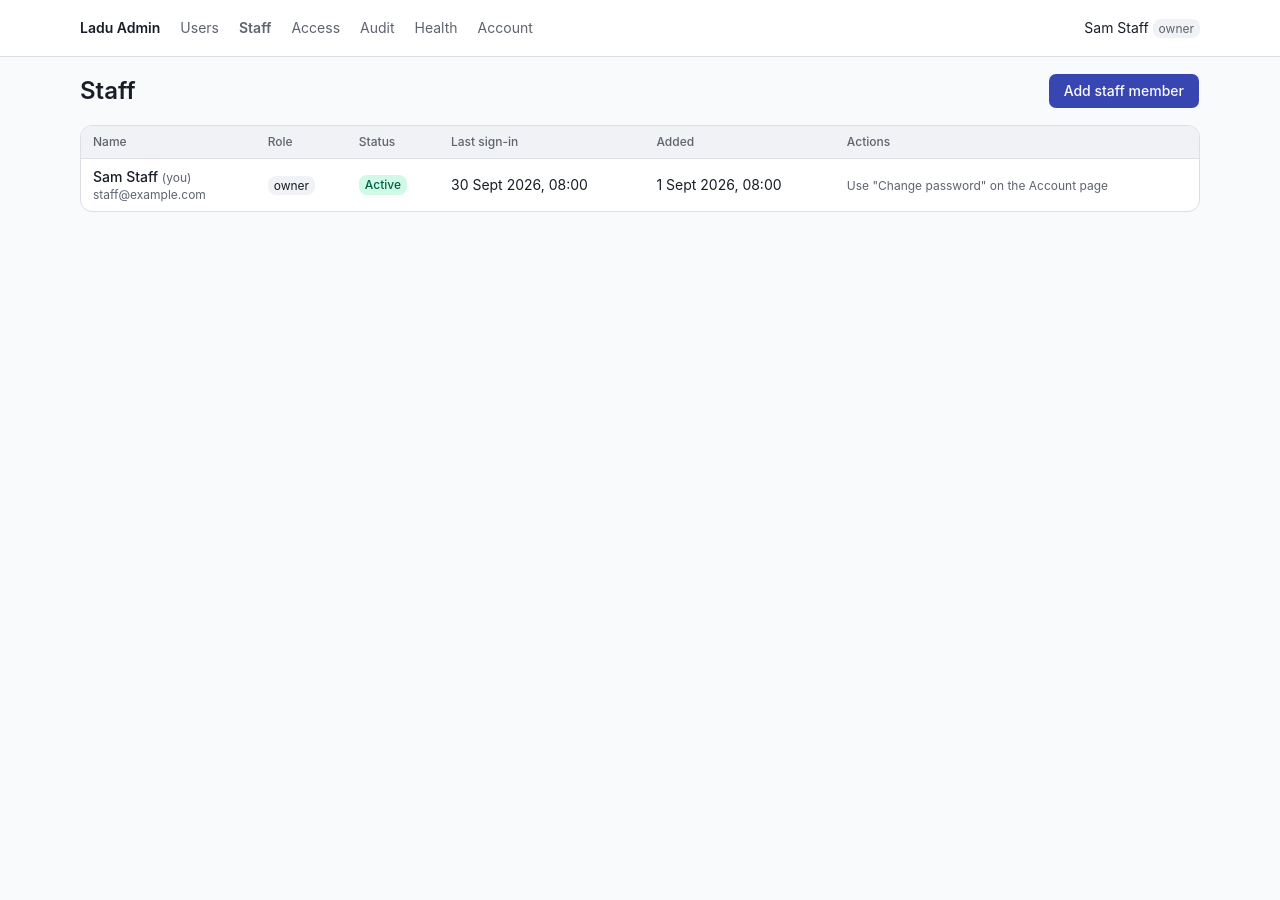
Test case: add a staff member › can generate a password that the rules accept
This screenshot has width=1280, height=900.
What coordinates should you click on to do the following:
click the button "Add staff member"
I would click on:
 (1124, 91)
Its box is [1048,73,1200,109].
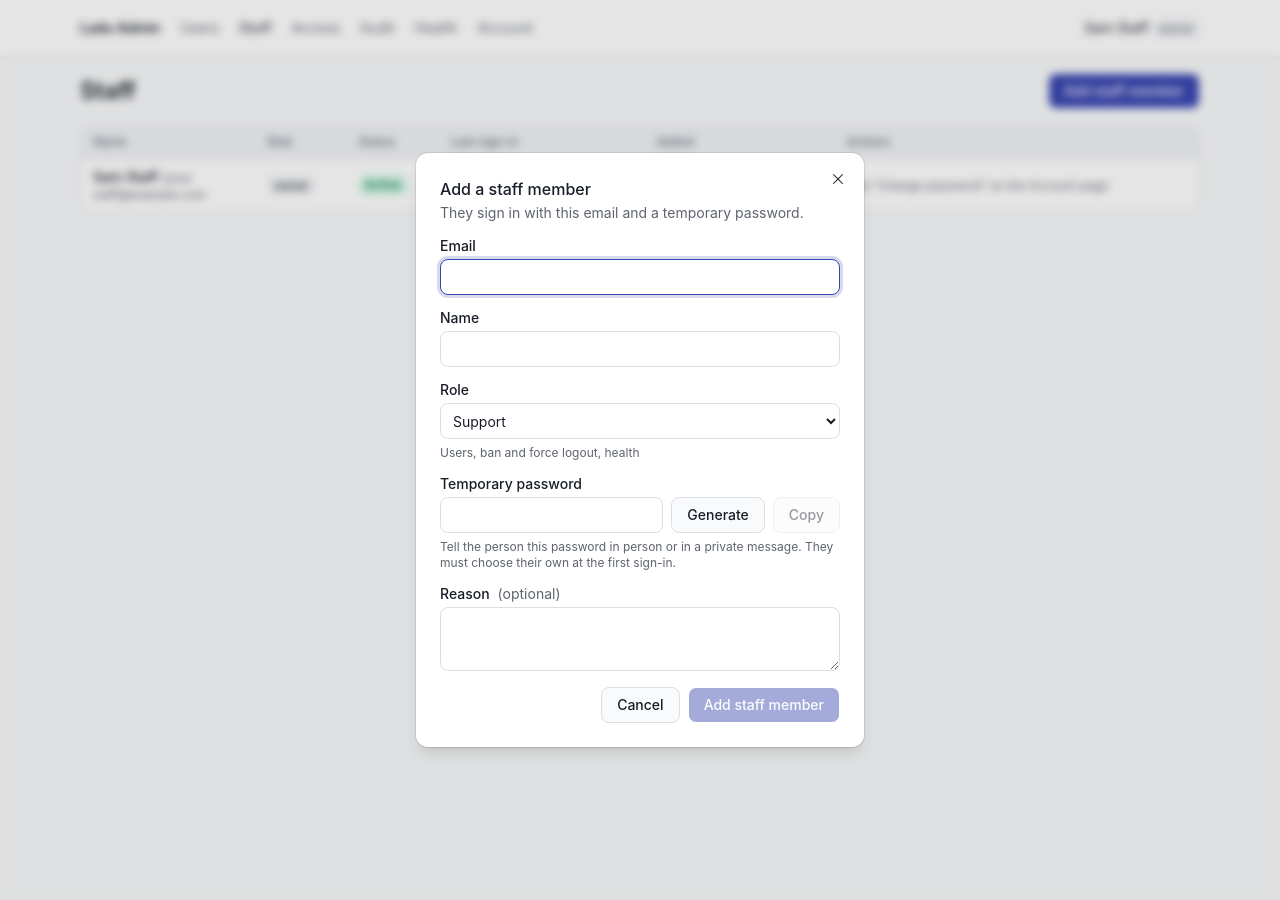
What coordinates should you click on to do the following:
click the button "Generate"
I would click on:
 (718, 515)
Its box is [671,497,765,533].
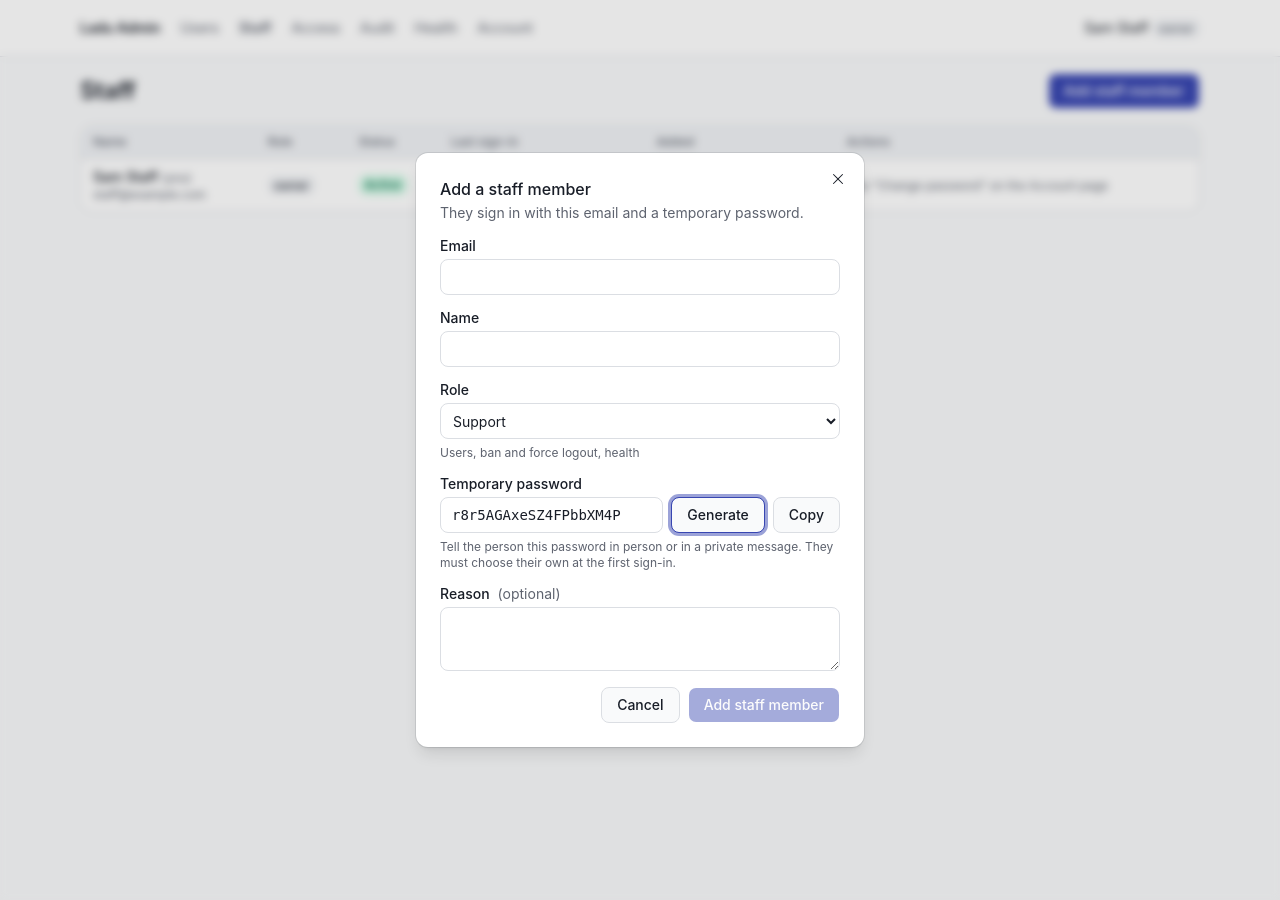
Result: the button "Copy" is enabled at [773,497,840,533]
